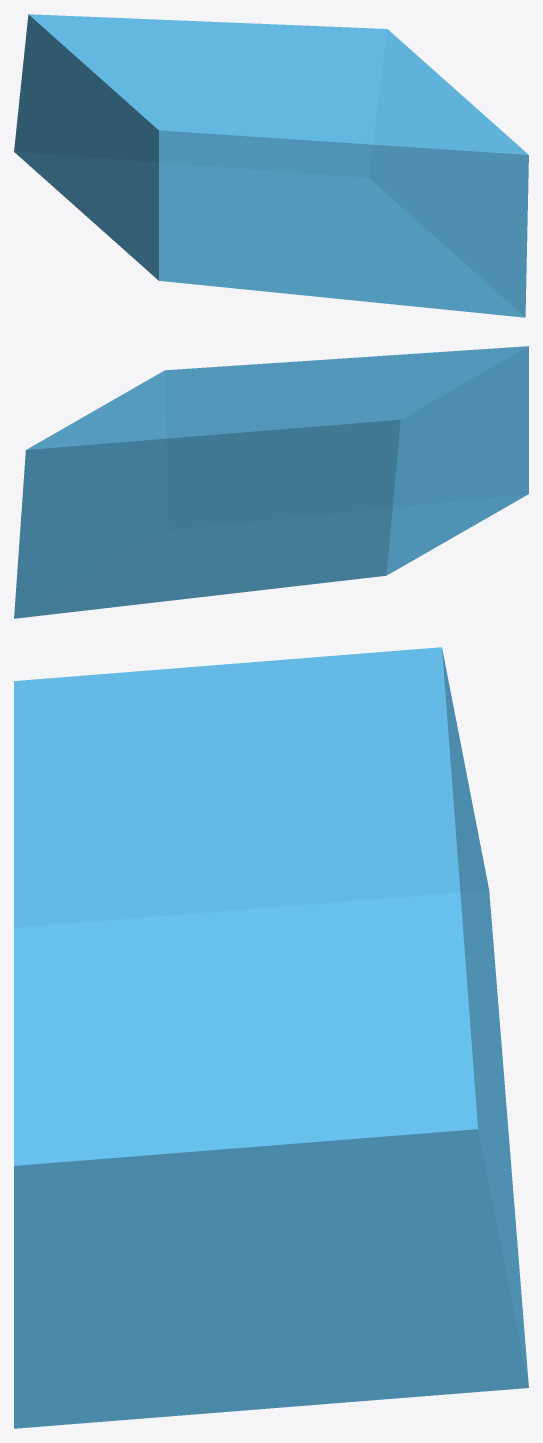
The model's file is Event_421556567_HErechit_25.fbx.
3 renders of one model, top to bottom at view 1: azimuth 30°, elevation 25°; view 2: azimuth 150°, elevation 25°; view 3: azimuth 270°, elevation 25°, orthographic. The views are drawn at different scales.
Visible parts, largest first — view 1: Model; view 2: Model; view 3: Model.
Part boxes in pixels (box(x1,y1,x2,y2)): Model: box(14, 14, 528, 317); Model: box(14, 346, 528, 618); Model: box(14, 647, 528, 1428).
Bounding box in the file's own units: 0.8582 × 0.659 × 0.6303.
